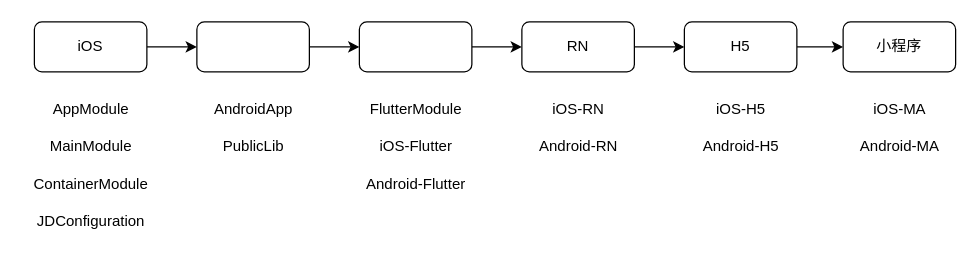
Some shapes in this 978 by 256 pixel diagram are drawn without their labels. The shapes that lost their labels are listed below. From the top down, each one's box as (x1, y1, x2, y2) in pixels, then its label:
(196, 21, 309, 72): Android
(358, 21, 472, 72): Flutter
